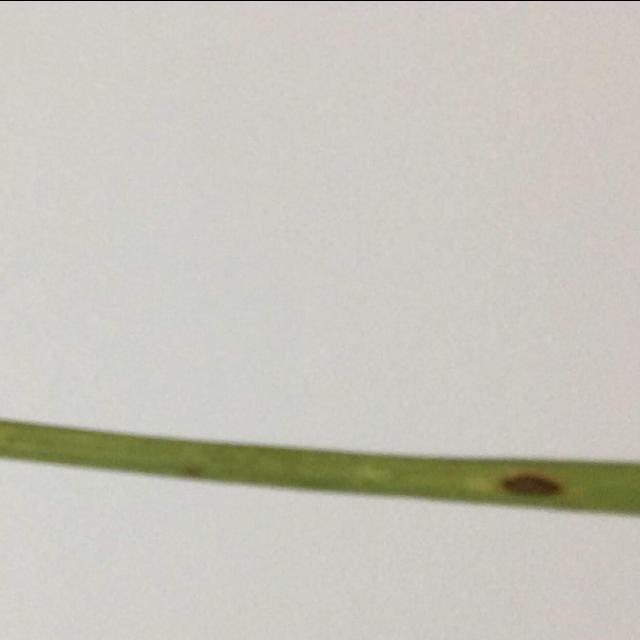Leaf blast: (482, 470, 586, 504), (170, 462, 204, 480)
